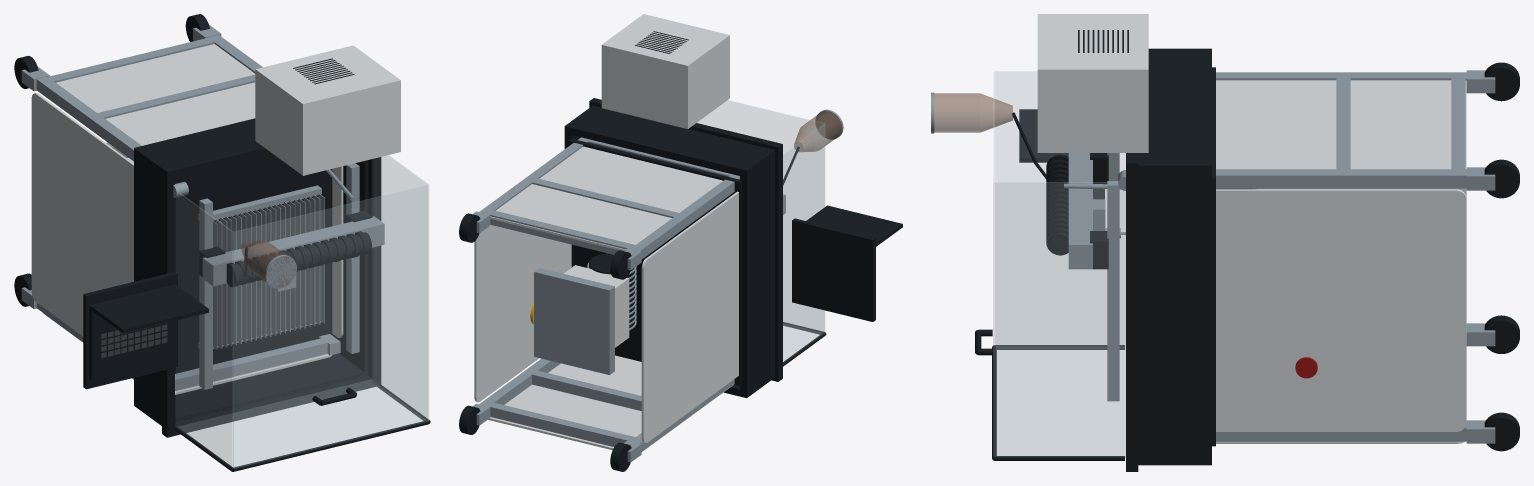
Rendered from prepared_waterjet.glb.
3 views of the same model, side by side, from view 1: azimuth 30°, elevation 25°; view 2: azimuth 150°, elevation 25°; view 3: azimuth 270°, elevation 25° (orthographic). The views are drawn at different scales.
Parts seen in each view (by area): view 1: lid_roof, side_panel_-1, rear_electrical_enclosure, lid_right, lid_left, rear_panel, catcher_bottom, lid_front, catcher_edge_-0.39, catcher_side_-0.325, laptop_base, catcher_edge_0.39 (+40 smaller); view 2: side_panel_-1, rear_panel, rear_electrical_enclosure, side_panel_1, lid_roof, pump_base, catcher_side_-0.325, laptop_support, catcher_edge_0.39, front_panel, lid_left, catcher_bottom (+21 smaller); view 3: side_panel_1, lid_right, catcher_side_0.325, rear_panel, lid_left, rear_electrical_enclosure, lid_front, catcher_edge_0.39, frame_post_0.28_0.34, upper_rim_side_0.337, stage_rail_0.24, gantry (+20 smaller).
Boxes of the visible parts, x1,y1,x2,y2 form: lid_roof: (233,184,428,468); side_panel_-1: (31,93,133,336); rear_electrical_enclosure: (255,45,400,175); lid_right: (372,155,428,419); lid_left: (176,193,232,468); rear_panel: (56,44,255,145); catcher_bottom: (175,154,334,373); lid_front: (179,380,425,466); catcher_edge_-0.39: (134,353,368,425); catcher_side_-0.325: (134,152,161,418); laptop_base: (89,284,177,380); catcher_edge_0.39: (134,118,259,175); side_panel_-1: (641,191,738,443); rear_panel: (490,146,722,250); rear_electrical_enclosure: (601,14,729,128); side_panel_1: (474,225,571,402); lid_roof: (697,100,824,331); pump_base: (534,268,614,374); catcher_side_-0.325: (740,154,774,394); laptop_support: (792,218,875,321); catcher_edge_0.39: (564,105,774,177); front_panel: (488,355,733,451); lid_left: (783,124,824,362); catcher_bottom: (568,139,741,385); side_panel_1: (1216,189,1466,431); lid_right: (995,182,1125,457); catcher_side_0.325: (1138,170,1211,460); rear_panel: (1216,80,1466,169); lid_left: (995,71,1125,345); rear_electrical_enclosure: (1037,14,1148,152); lid_front: (996,346,1125,457); catcher_edge_0.39: (1138,48,1211,174); frame_post_0.28_0.34: (1216,169,1466,188); upper_rim_side_0.337: (1126,172,1138,462); stage_rail_0.24: (1107,181,1119,401); gantry: (1068,153,1092,269).
Size of the model in its own units: 1 by 1.05 by 1.43.
